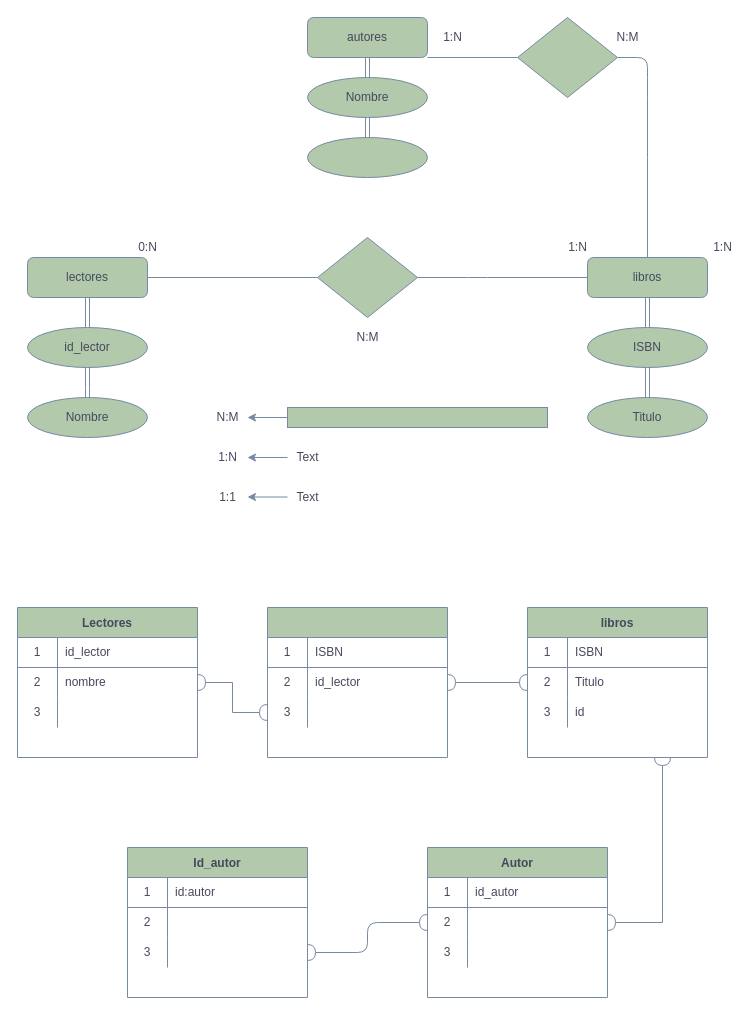
Image size: 755x1015. Some labels were removed from this diagram. The box of each missing label's shape, as (x1, y1, x2, y2) in pixels:
escribe: (516, 16, 618, 98)
Id autor: (306, 136, 428, 178)
Lector_libro: (266, 606, 448, 758)
leer: (316, 236, 418, 318)
se crea una tabla , se añade el id de las tablas: (286, 406, 548, 428)
